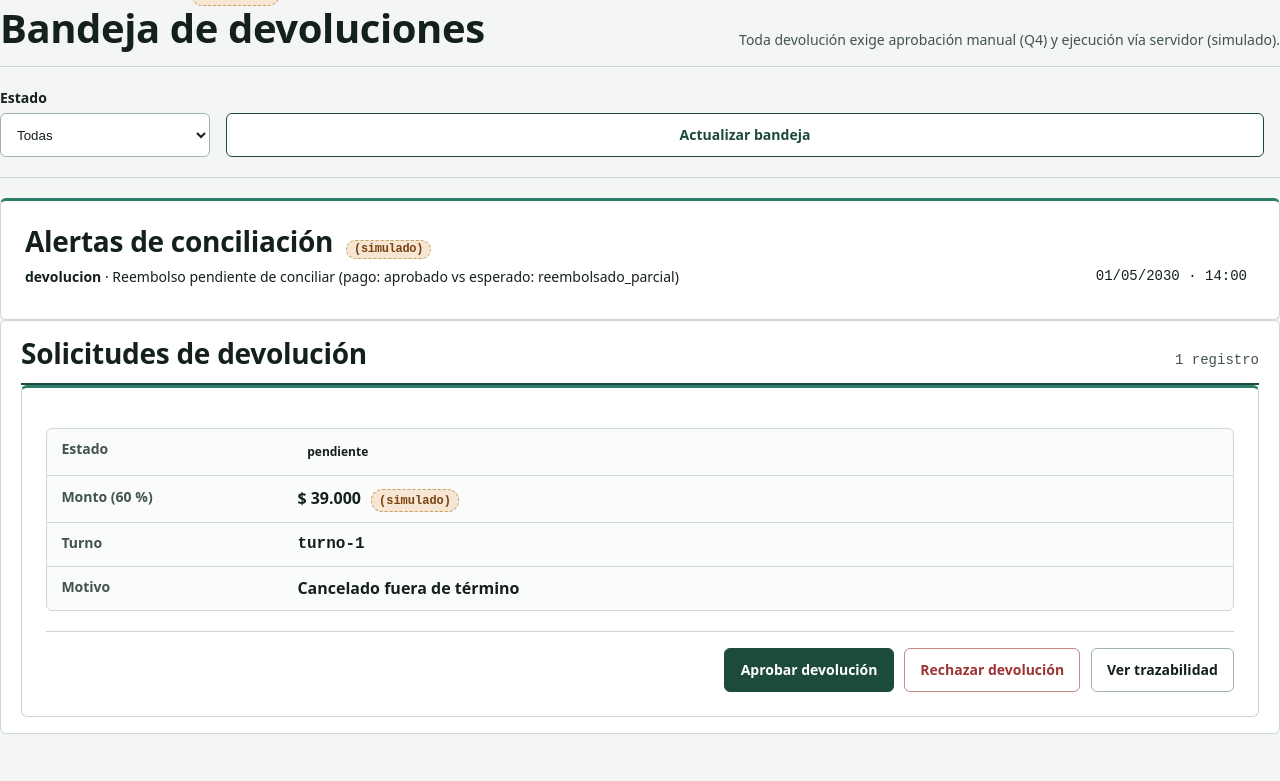
Test: BandejaPage › bloquea rechazo sin motivo y maneja error 422 MONTO_NO_COINCIDE sin mutar estado
This screenshot has width=1280, height=781.
Click the button "Rechazar devolución" at (992, 670), box [904, 648, 1080, 692]
(page scrolled)
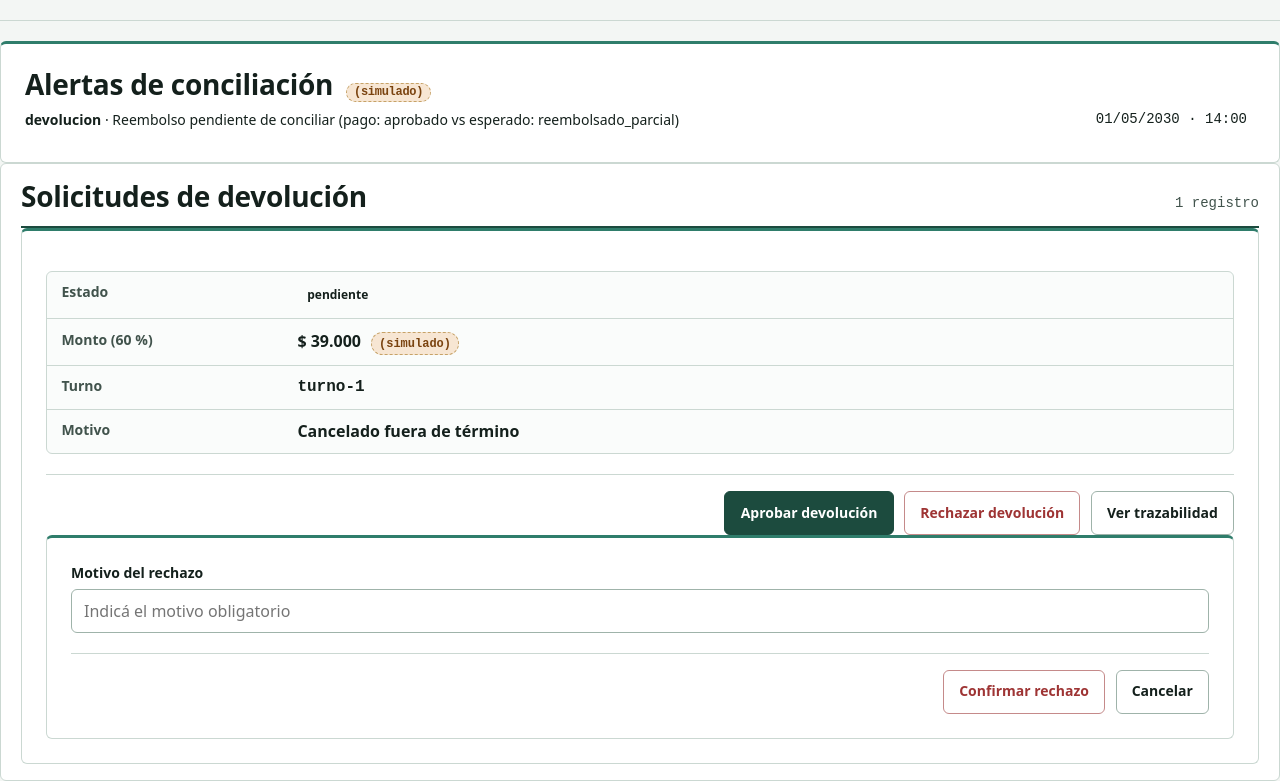
Click the button "Confirmar rechazo" at (1024, 692), box [943, 670, 1105, 714]
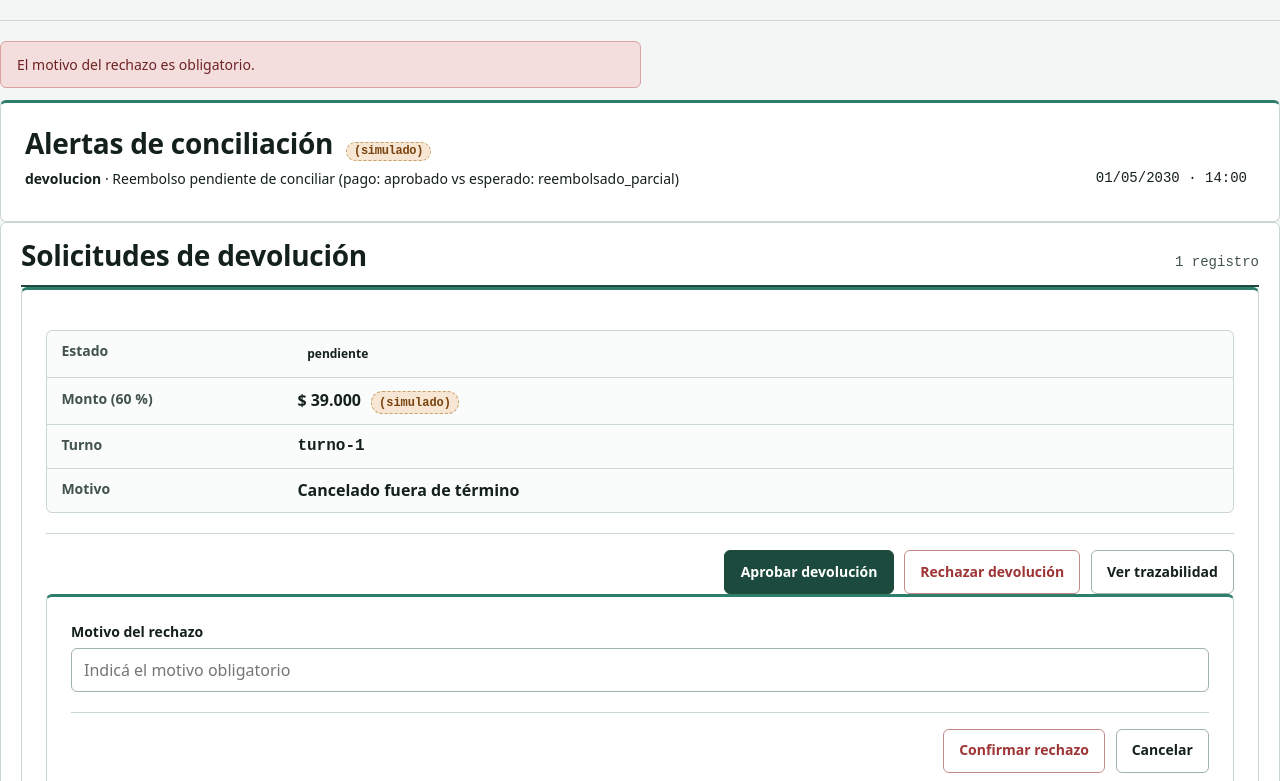
Result: the message shows "motivo" at [17, 55, 255, 74]
Click the button "Aprobar devolución" at (809, 572), box [724, 550, 894, 594]
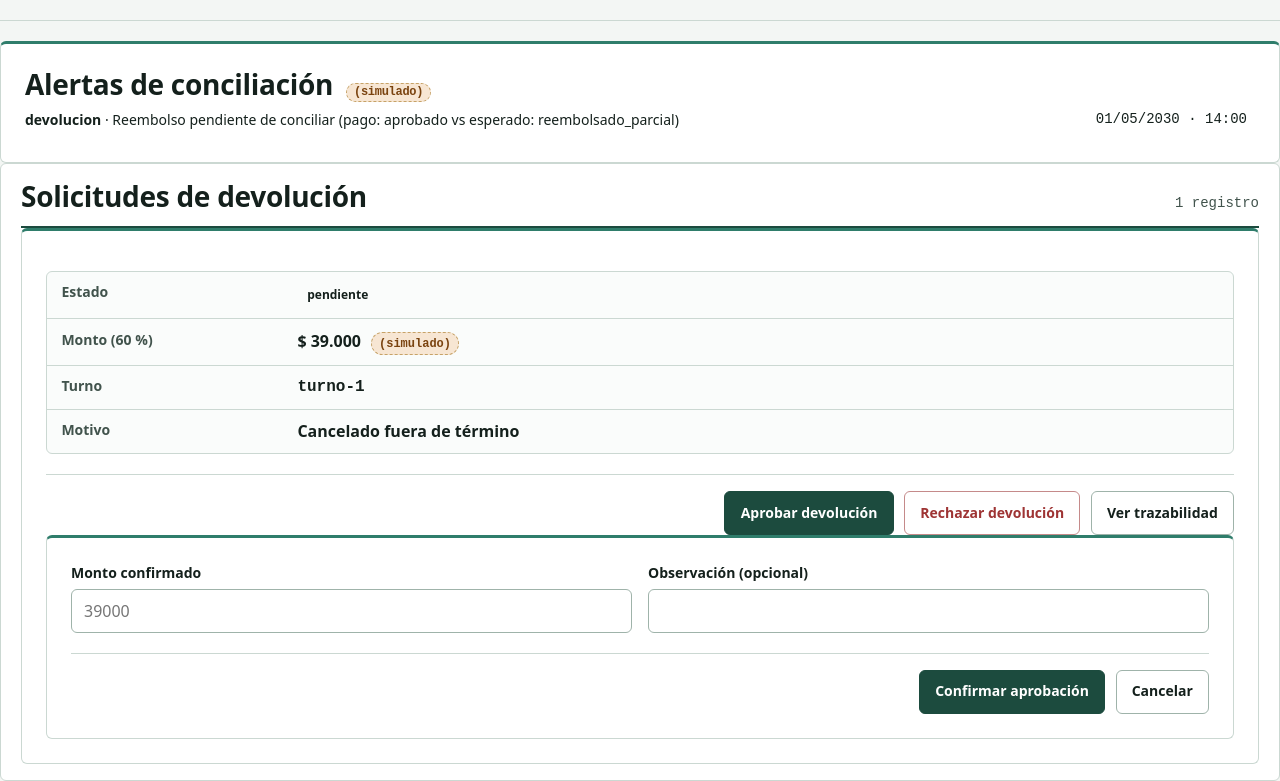
Type "100" into the field labelled "Monto confirmado" at (352, 611), box [71, 589, 632, 633]
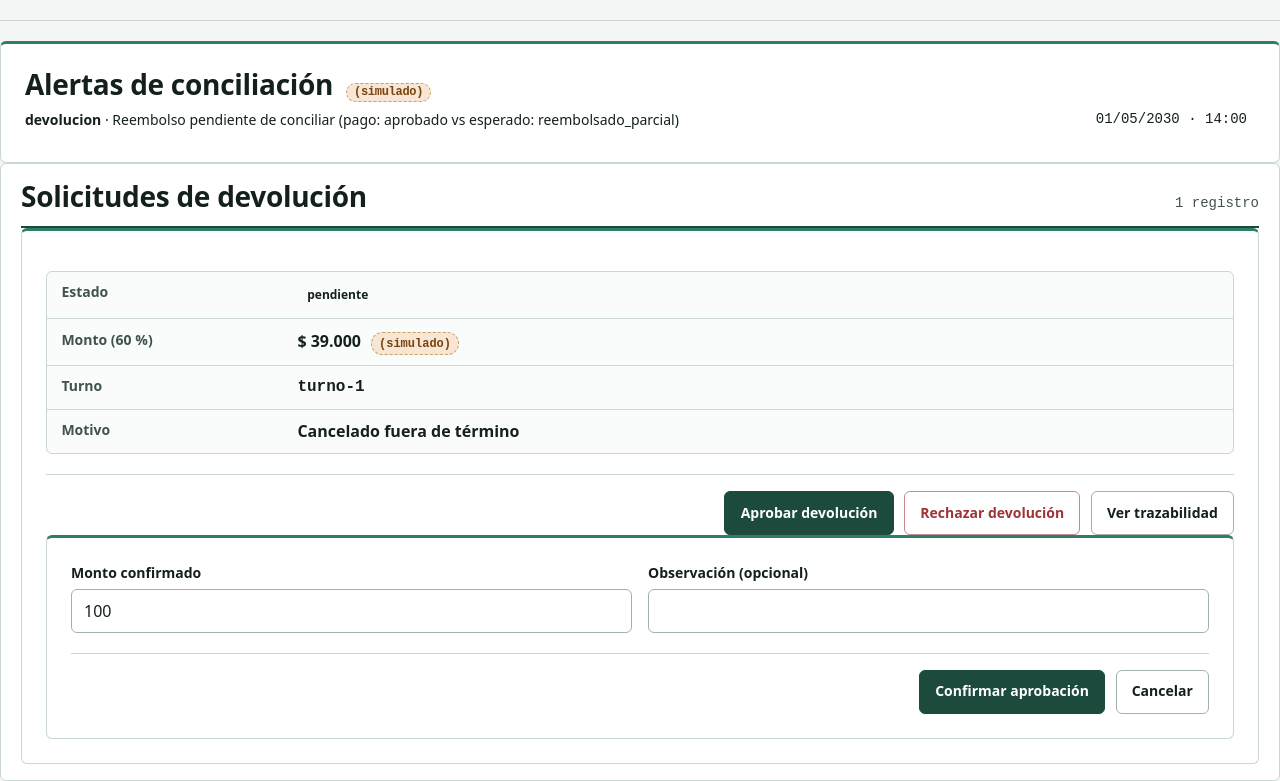
Click the button "Confirmar aprobación" at (1012, 692), box [919, 670, 1105, 714]
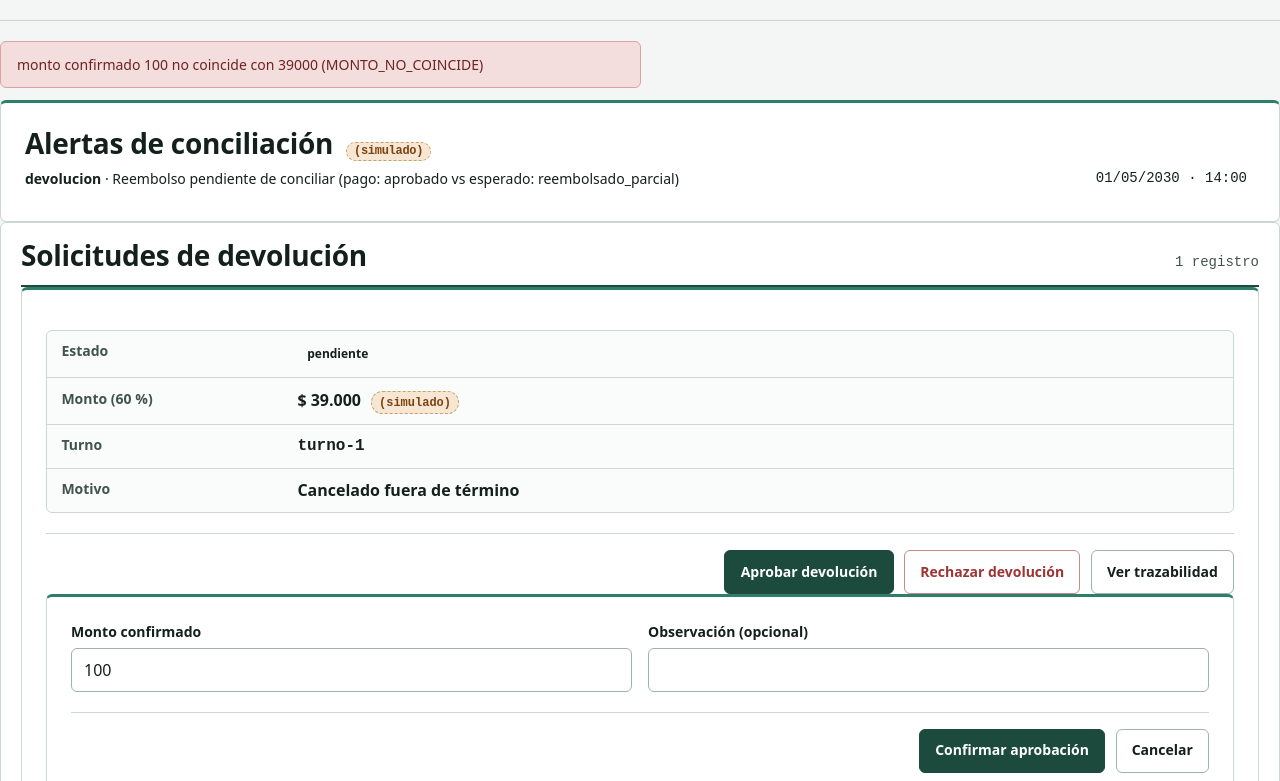
Expected: the text "pendiente" is shown, [307, 345, 368, 362]
Result: the message reads "monto confirmado 100 no coincide con 39000 (MONTO_NO_COINCIDE)" at [17, 55, 483, 74]
